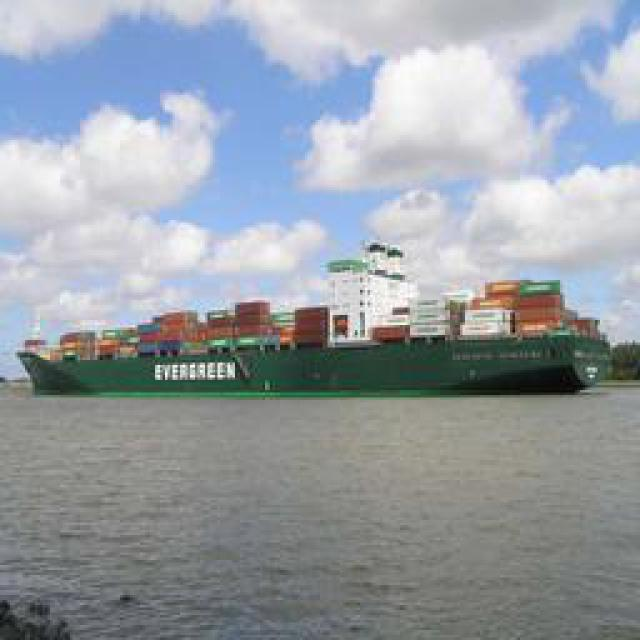Ship: (24, 311, 604, 396)
